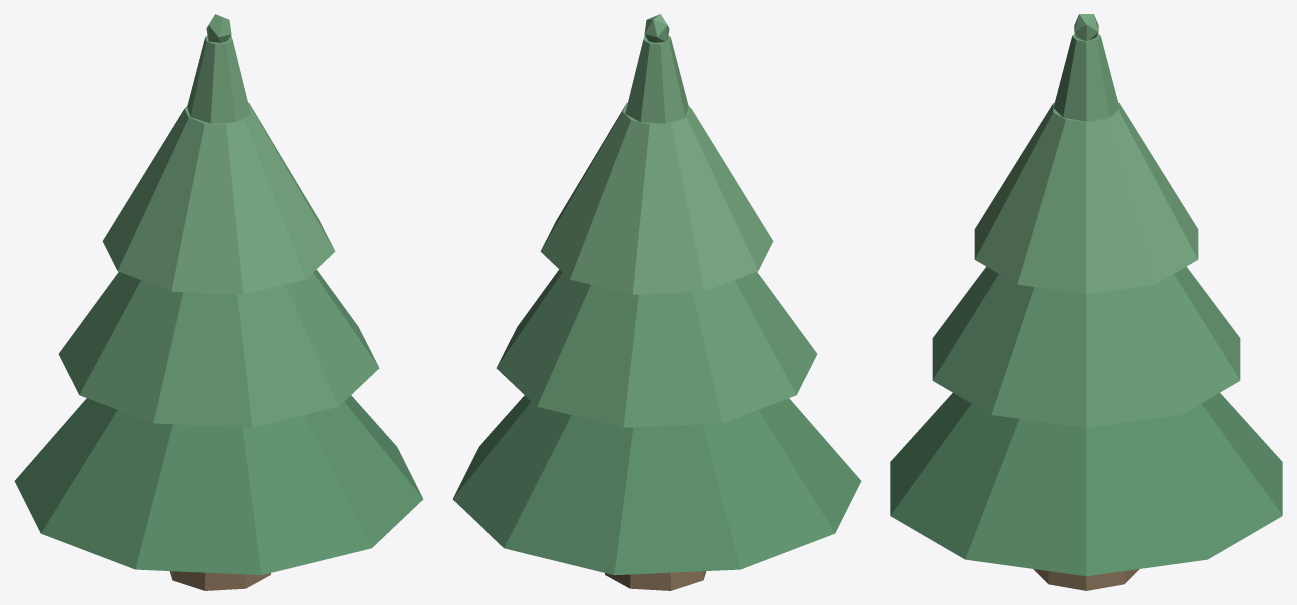
3 renders of one model, left to right at view 1: azimuth 30°, elevation 25°; view 2: azimuth 150°, elevation 25°; view 3: azimuth 270°, elevation 25°, orthographic.
Parts seen in each view (by area): view 1: part1, part2, part3, part4, part0, part5; view 2: part1, part2, part3, part4, part0, part5; view 3: part1, part2, part3, part4, part0, part5.
Part boxes in pixels (box(x1,y1,x2,y2)): part1: box(14, 395, 423, 575); part2: box(58, 269, 379, 427); part3: box(102, 102, 335, 294); part4: box(187, 35, 250, 123); part0: box(169, 571, 270, 590); part5: box(206, 14, 231, 42); part1: box(452, 395, 861, 575); part2: box(496, 269, 817, 427); part3: box(540, 102, 773, 294); part4: box(625, 35, 688, 123); part0: box(605, 571, 706, 590); part5: box(644, 14, 669, 42); part1: box(890, 393, 1282, 576); part2: box(932, 267, 1240, 427); part3: box(974, 102, 1198, 293); part4: box(1053, 33, 1119, 121); part0: box(1033, 569, 1139, 590); part5: box(1074, 14, 1098, 40).
Size of the model in its own units: 2.6 by 3.85 by 2.47.
